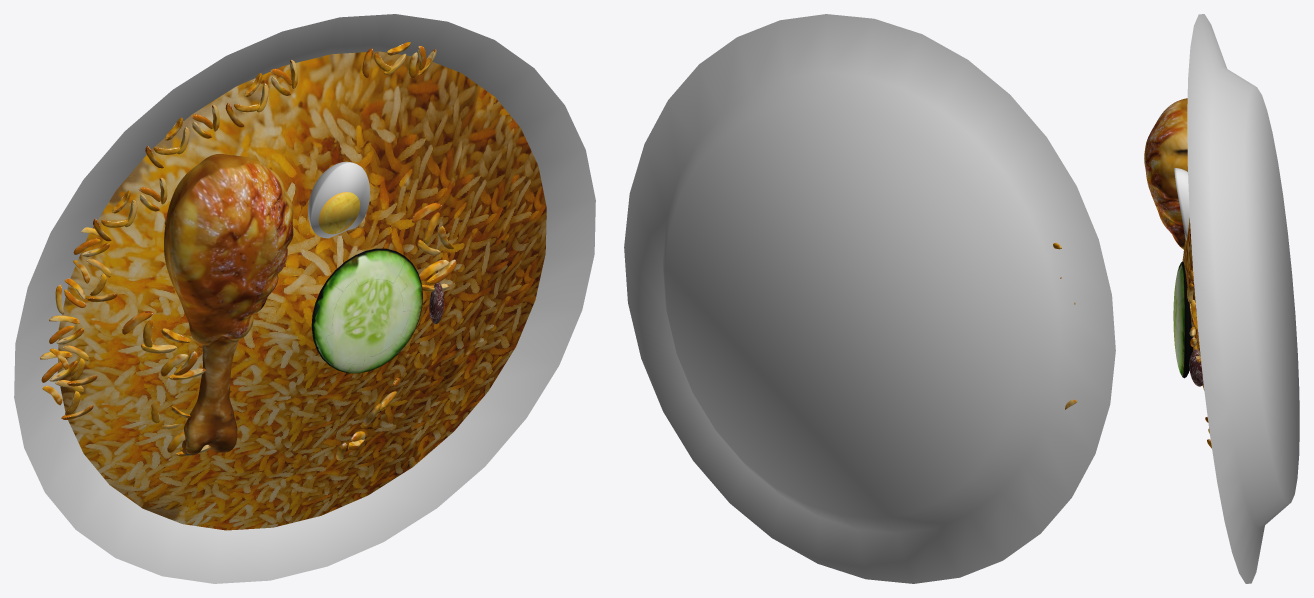
Rendered from smallchmandi-v2.glb.
The picture shows the model from 3 angles, left to right: view 1: azimuth 30°, elevation 25°; view 2: azimuth 150°, elevation 25°; view 3: azimuth 270°, elevation 25°; orthographic projection. The views are drawn at different scales.
Visible parts, largest first — view 1: Cone, Circle.002, 15513_Fried_Chicken_Drumstick_v1.001, Sphere.004, Sphere, Plane.025, Plane.029, Plane.004, Plane.005, Plane.011, Plane.012, Plane.009 (+3 smaller); view 2: Circle.002; view 3: Circle.002, 15513_Fried_Chicken_Drumstick_v1.001, Sphere.004, Sphere, Cone, Plane.029, Sphere.002.
Part boxes in pixels (bbox=[...]): Cone: bbox=[57, 51, 546, 530]; Circle.002: bbox=[14, 14, 595, 583]; 15513_Fried_Chicken_Drumstick_v1.001: bbox=[164, 154, 293, 455]; Sphere.004: bbox=[311, 248, 422, 373]; Sphere: bbox=[308, 161, 369, 238]; Plane.025: bbox=[122, 311, 205, 380]; Plane.029: bbox=[412, 202, 456, 291]; Plane.004: bbox=[40, 351, 93, 419]; Plane.005: bbox=[49, 315, 97, 386]; Plane.011: bbox=[225, 59, 297, 127]; Plane.012: bbox=[362, 42, 436, 78]; Plane.009: bbox=[93, 177, 167, 241]; Circle.002: bbox=[624, 14, 1115, 583]; Circle.002: bbox=[1187, 14, 1299, 583]; 15513_Fried_Chicken_Drumstick_v1.001: bbox=[1144, 98, 1187, 249]; Sphere.004: bbox=[1173, 261, 1192, 378]; Sphere: bbox=[1174, 168, 1189, 240]; Cone: bbox=[1182, 218, 1204, 390]; Plane.029: bbox=[1187, 270, 1200, 362]; Sphere.002: bbox=[1189, 349, 1203, 386].
Bounding box in the file's own units: 7.81 × 7.77 × 2.12.
Materials: 20 (18 with a texture image).
